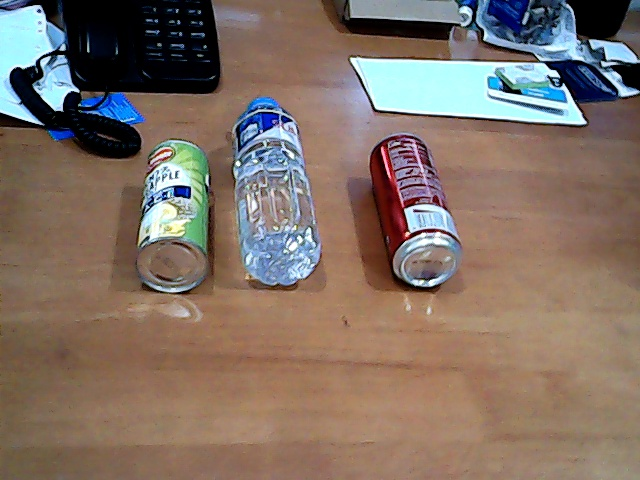Cola: (370, 132, 460, 288)
Pine Juice: (131, 128, 217, 304)
Summit Water: (229, 81, 326, 300)
